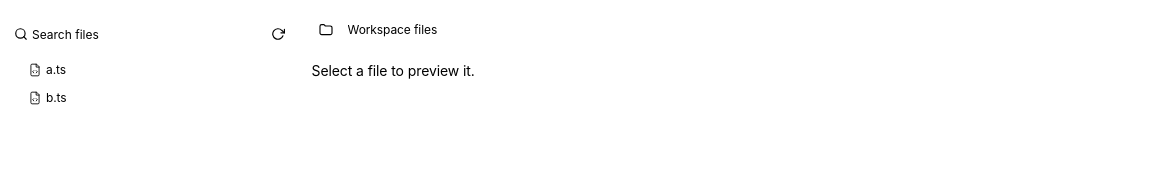
Test: workspace files panel request ownership › keeps pages pinned and requires reload after a file change
Click the text with class "workspace-files__name" showing "a.ts": (56, 69) [46,62,66,77]
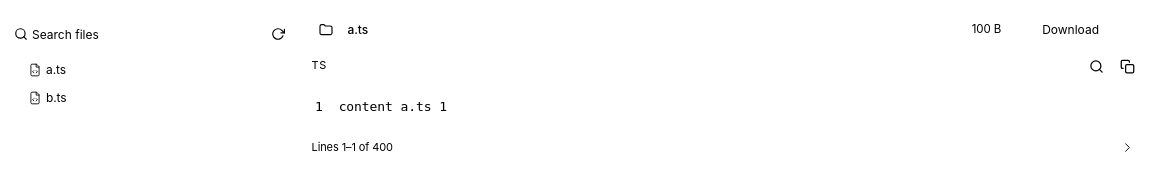
Click the button with class "workspace-file__more": (1128, 147) [1115,133,1140,161]
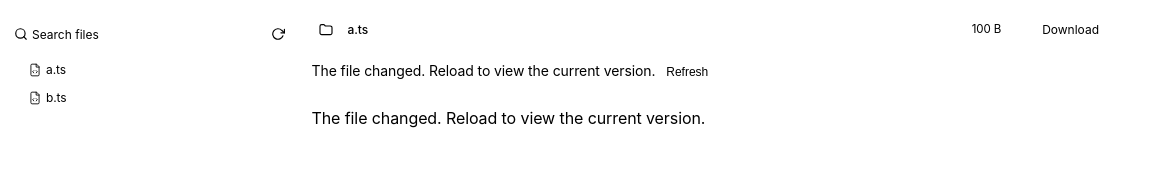
Check: the text "The file changed" is shown, box [312,62,659,79]
